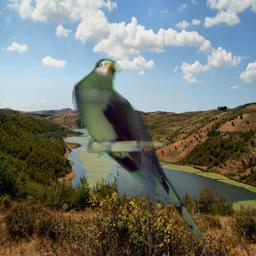Cuckoo: (72, 58, 213, 240)
